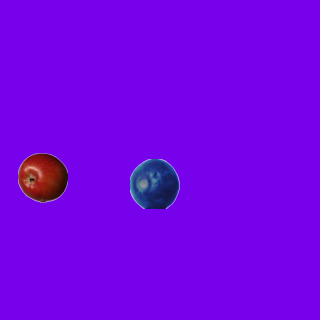Apple Braeburn: (17, 152, 67, 202)
Huckleberry: (129, 158, 179, 208)
